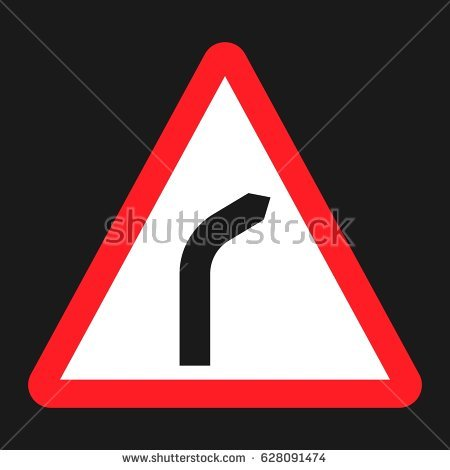Bend_to_right: (24, 41, 424, 411)
